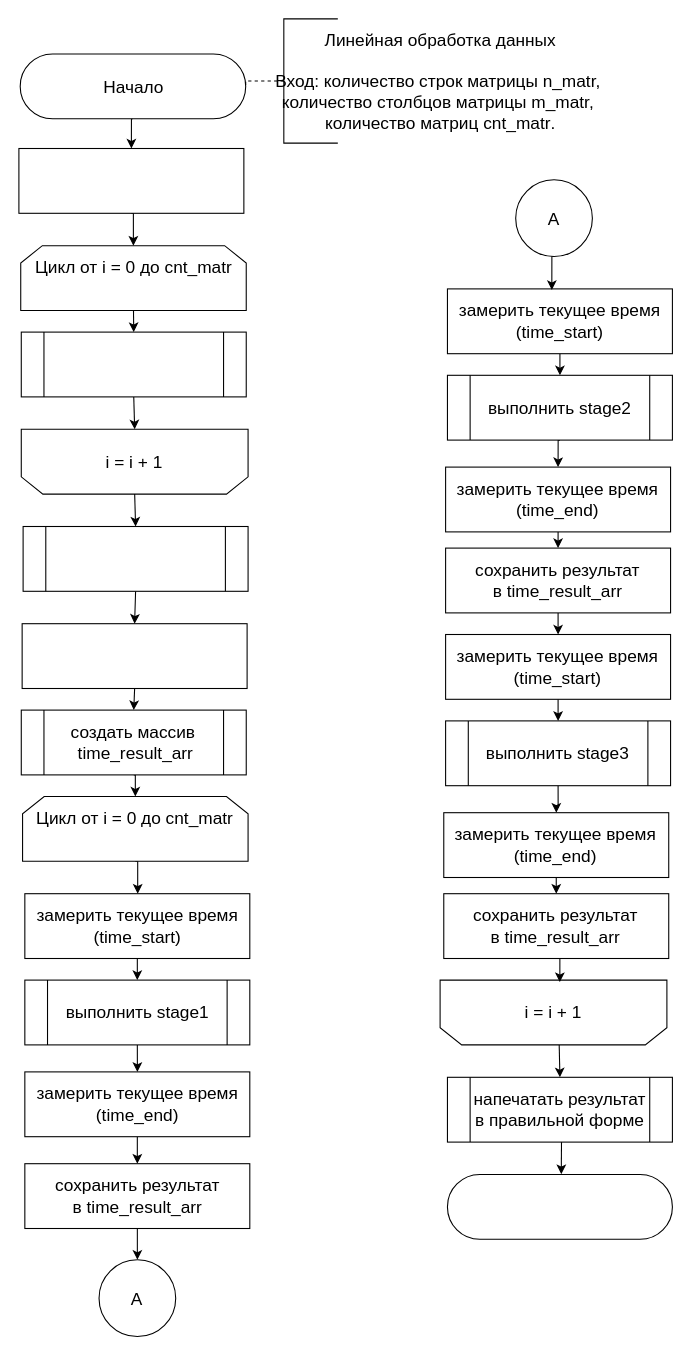
Image size: 692x1355. Some labels were removed from this diagram. Each missing label, with the centre of its shape:
замерить текущее время (timeBegin): pixel 134 655
Конец: pixel 559 1206
Сгенерировать матрицу и добавить её в очередь q1: pixel 133 364
создать массив matrix_state_arr: pixel 135 558
создать очереди этапов обработки q1, q2, q3: pixel 131 180
